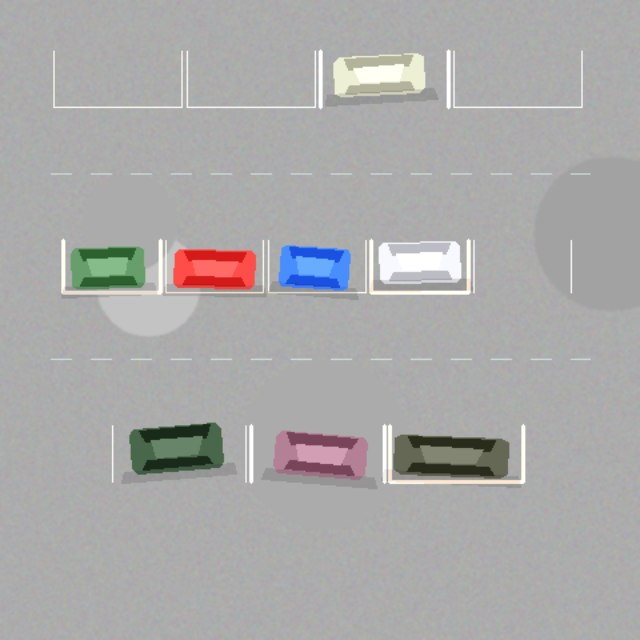space-empty: (53, 51, 181, 107), (187, 51, 315, 107), (453, 51, 581, 107), (473, 240, 571, 292)
space-occupied: (389, 425, 523, 481), (112, 425, 245, 481), (251, 425, 384, 481), (320, 51, 448, 107), (165, 240, 263, 292), (63, 240, 160, 292), (268, 240, 365, 292), (371, 240, 468, 292)
